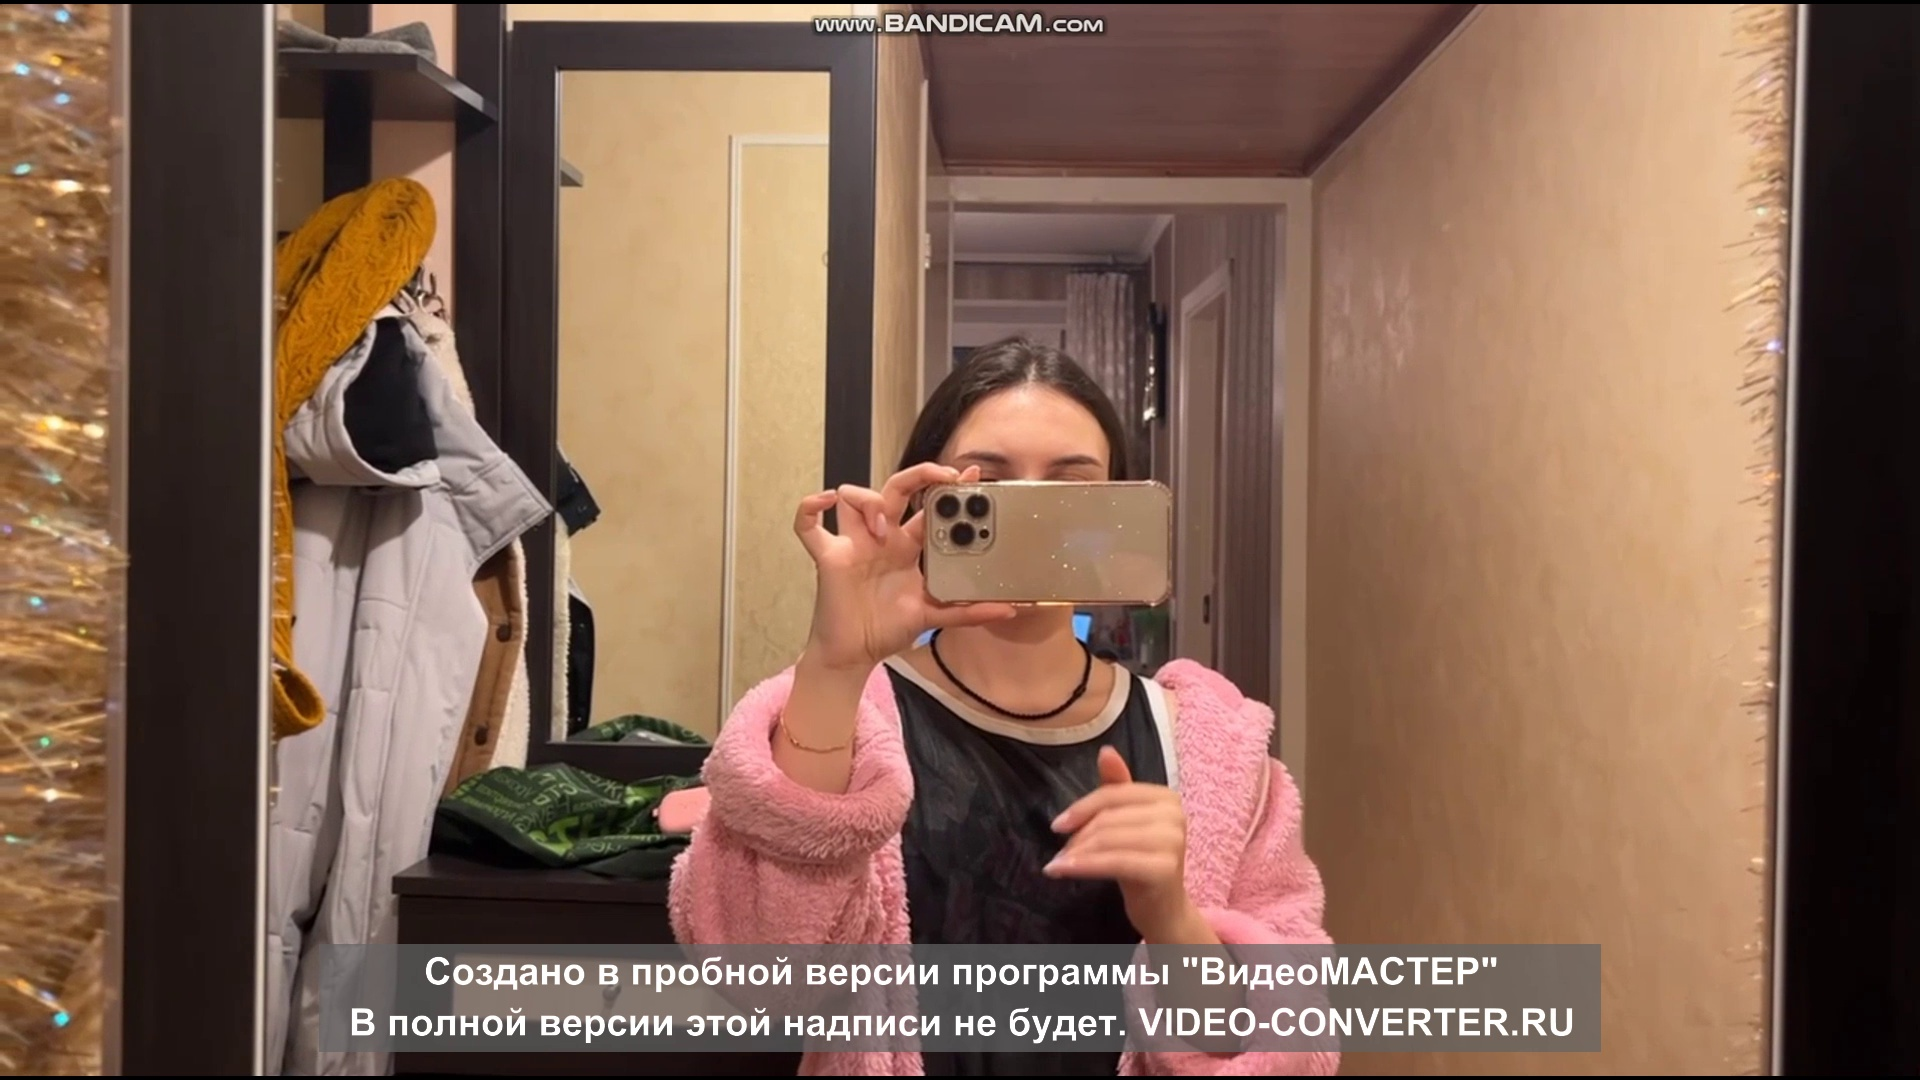Кисть: (1043, 742, 1184, 930)
